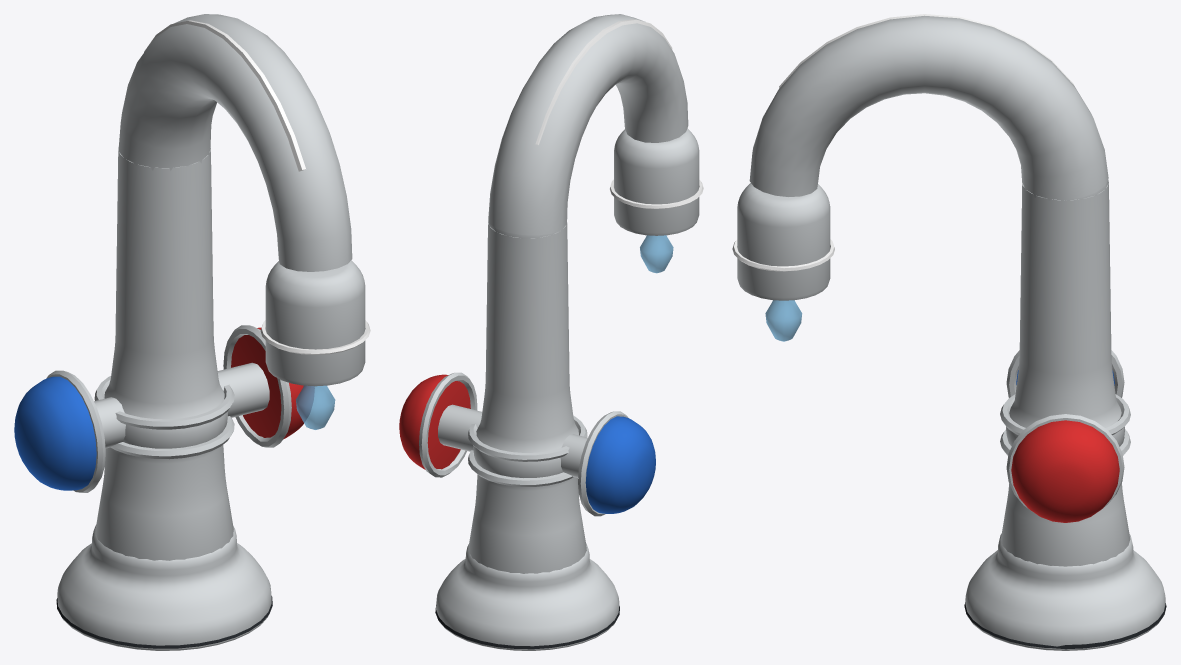
The model's file is sink_tap.glb.
The picture shows the model from 3 angles, left to right: view 1: azimuth 30°, elevation 25°; view 2: azimuth 150°, elevation 25°; view 3: azimuth 270°, elevation 25°; orthographic projection. The views are drawn at different scales.
Visible parts, largest first — view 1: SinkTap; view 2: SinkTap; view 3: SinkTap.
Part boxes in pixels (x1,y1,x2,y2): SinkTap: (14, 14, 370, 650); SinkTap: (399, 14, 703, 650); SinkTap: (732, 14, 1166, 650).
Bounding box in the file's own units: 5.58 × 12.02 × 8.01.
